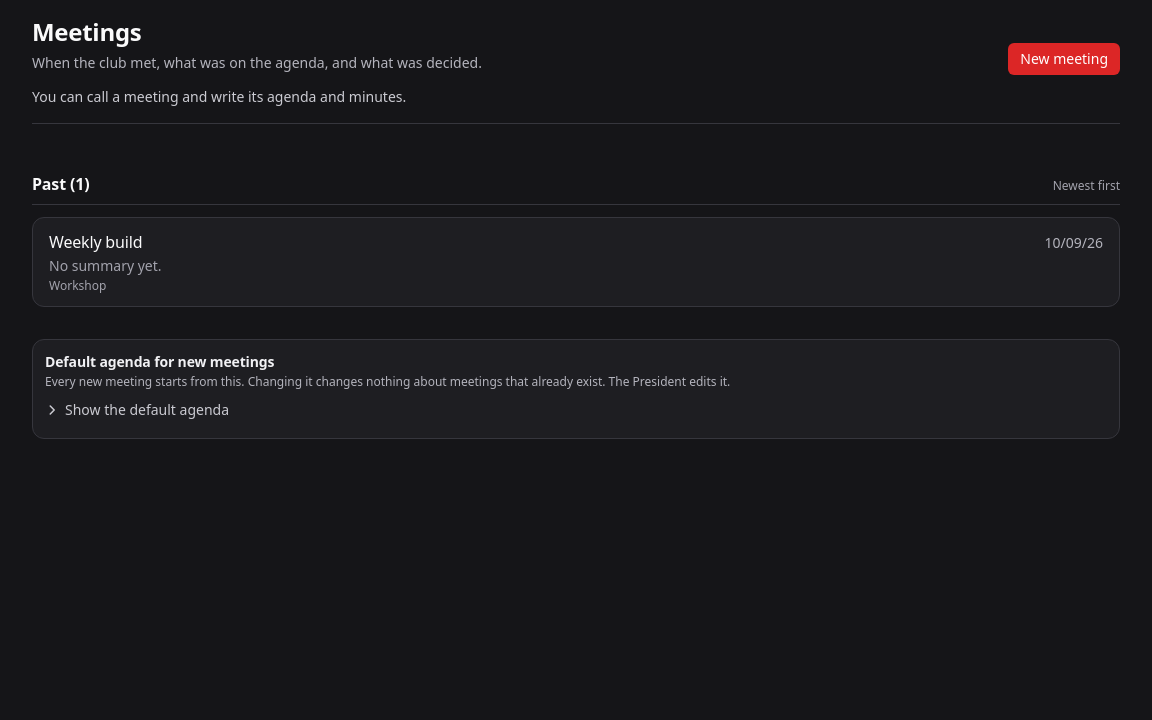
calling and editing a meeting › keeps the old free-text line visible, unchanged, beside the attendance list
Later steps or results of the test are not shown.
Click the button "Weekly build": click(96, 242) [49,230,142,254]
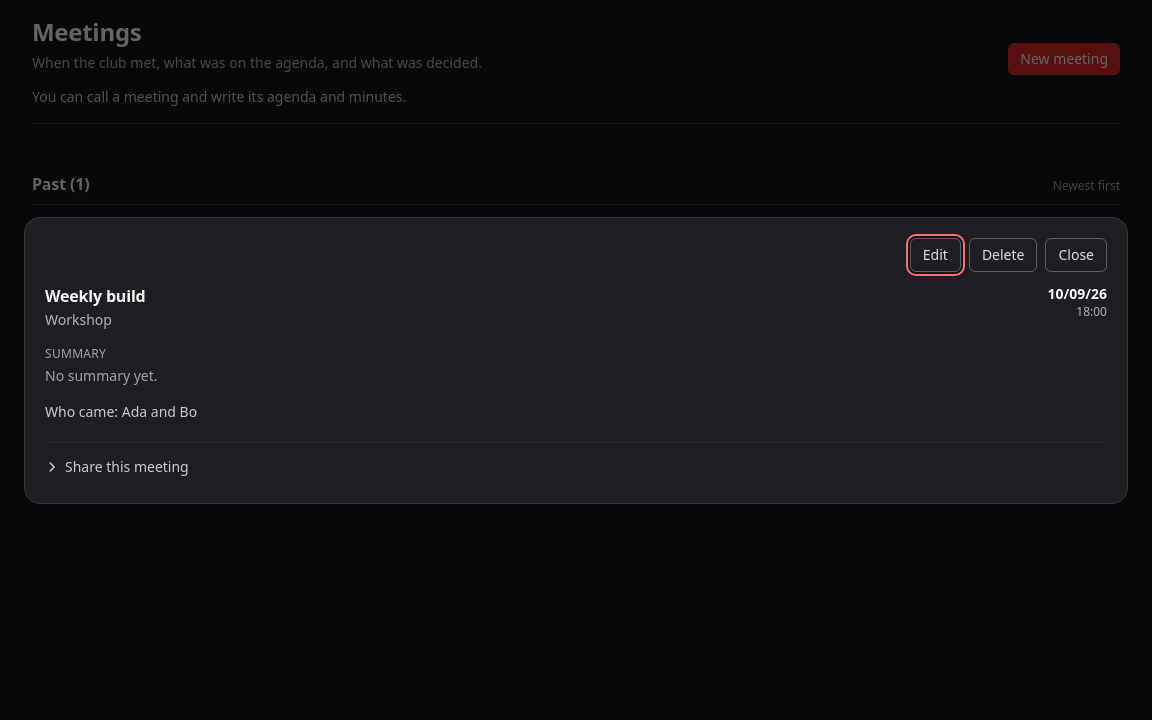
Click the button with aria-label "Edit Weekly build": click(935, 254) [910,238,961,272]
(page scrolled)
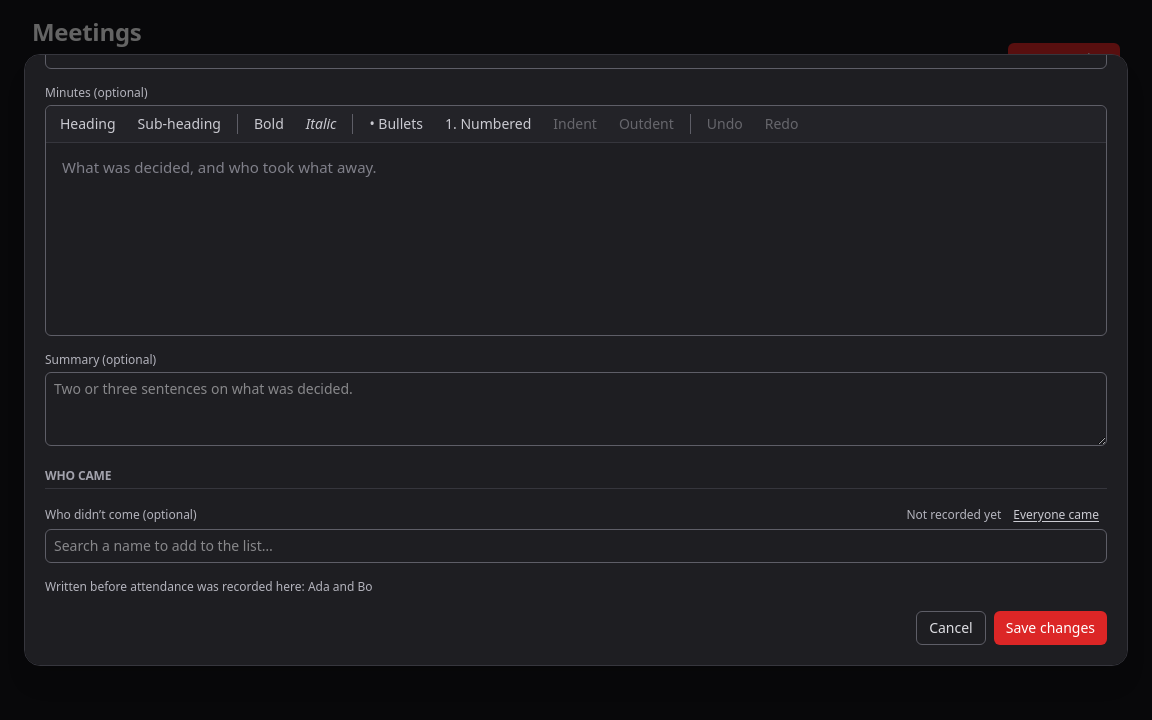
Result: the text with test id "legacy-attendees" reads "Written before attendance was recorded here: Ada and Bo" at [45,578,372,595]
